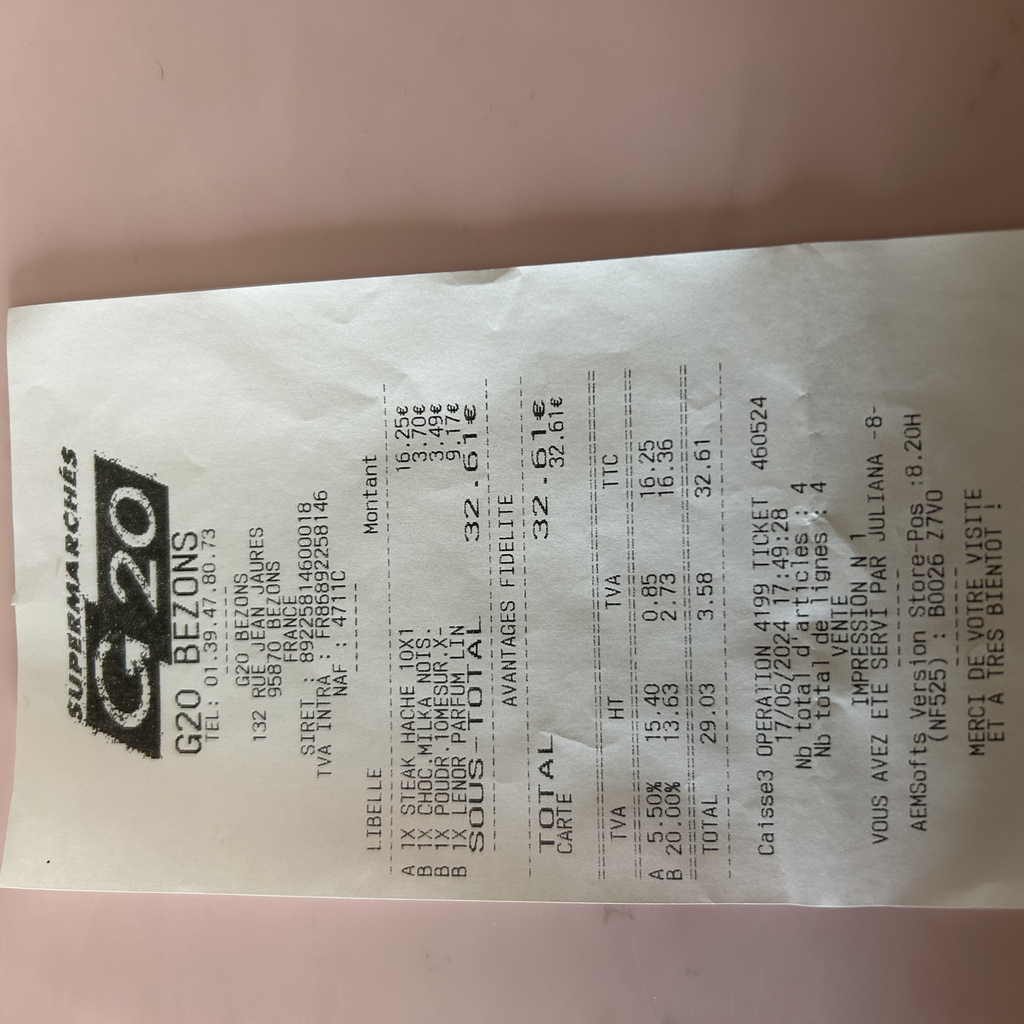recipt: (2, 229, 1022, 913)
